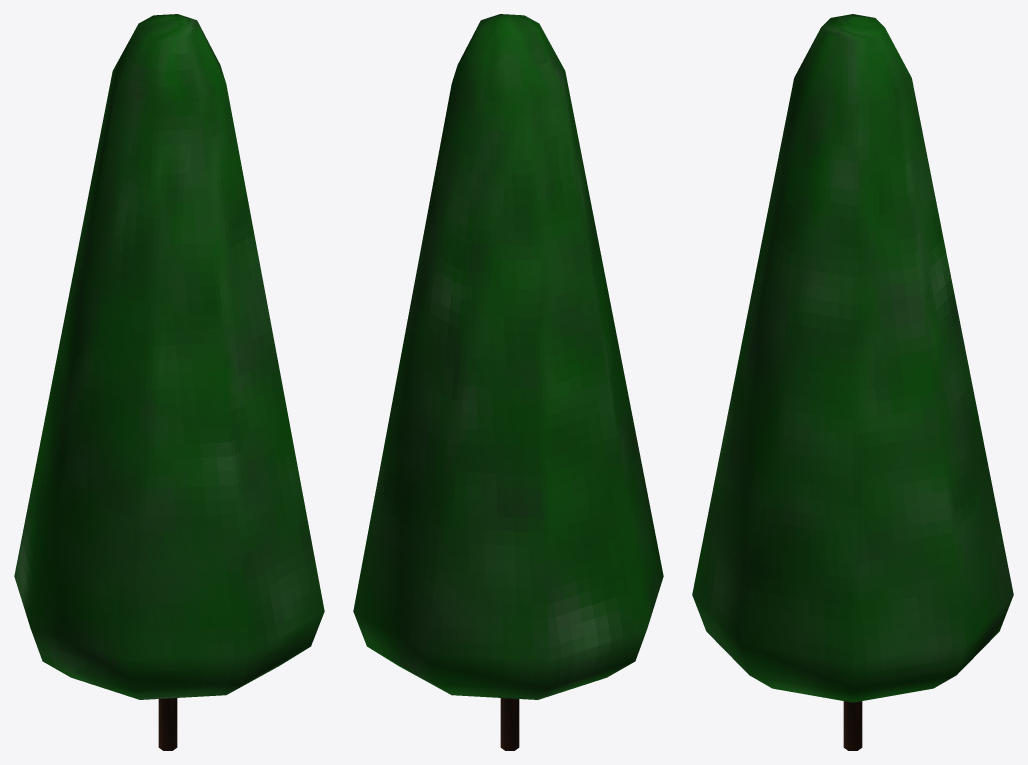
File: treeC.obj
3 renders of one model, left to right at view 1: azimuth 30°, elevation 25°; view 2: azimuth 150°, elevation 25°; view 3: azimuth 270°, elevation 25°, orthographic.
Parts seen in each view (by area): view 1: Tree_C_TreeC, trunk; view 2: Tree_C_TreeC, trunk; view 3: Tree_C_TreeC, trunk.
Part boxes in pixels (x1,y1,x2,y2): Tree_C_TreeC: (14, 14, 324, 699); trunk: (158, 698, 177, 750); Tree_C_TreeC: (353, 14, 663, 699); trunk: (500, 698, 519, 750); Tree_C_TreeC: (692, 14, 1013, 702); trunk: (843, 701, 862, 750).
Bounding box in the file's own units: 0.686 × 1.72 × 0.686.
2 materials, 1 textured.
